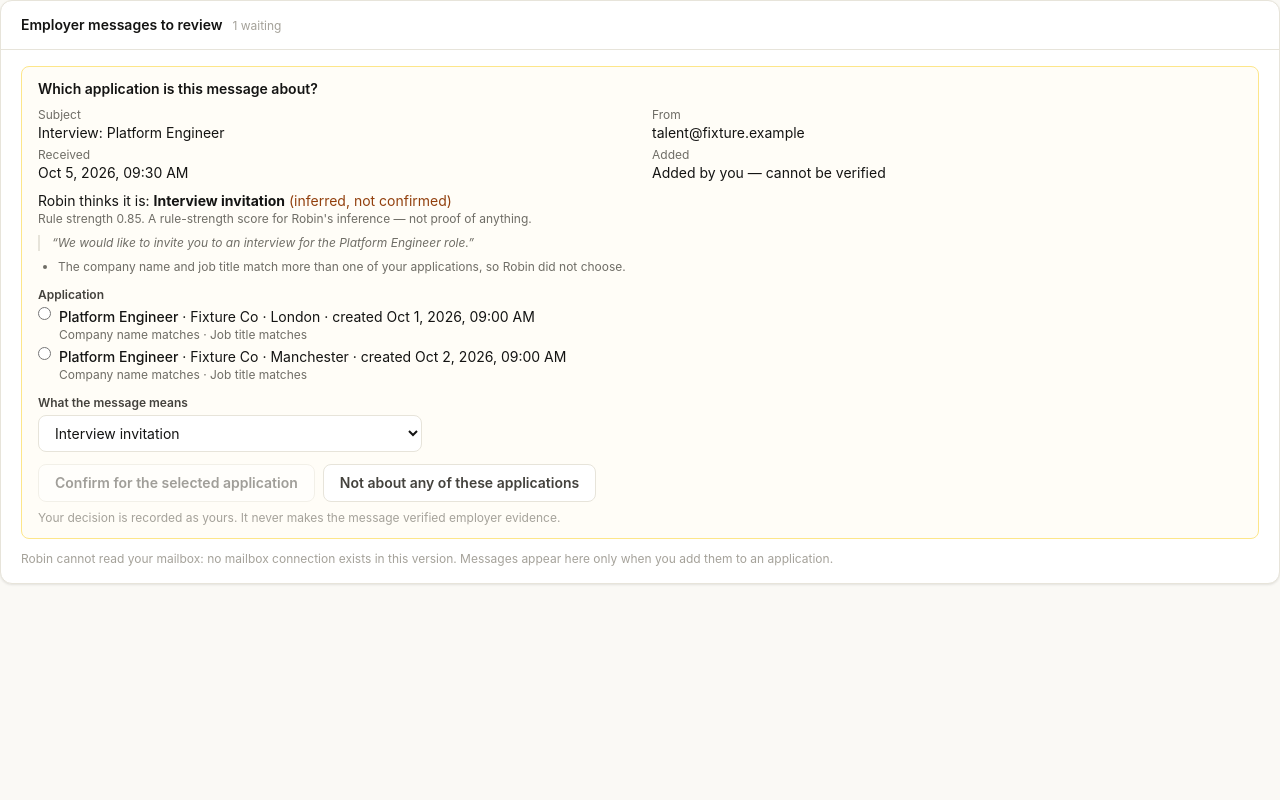
Test: TrackReviewQueue › reports a stale decision and reloads the queue instead of guessing
Click the button "Not about any of these applications".
click(460, 483)  # box [323,464,596,502]
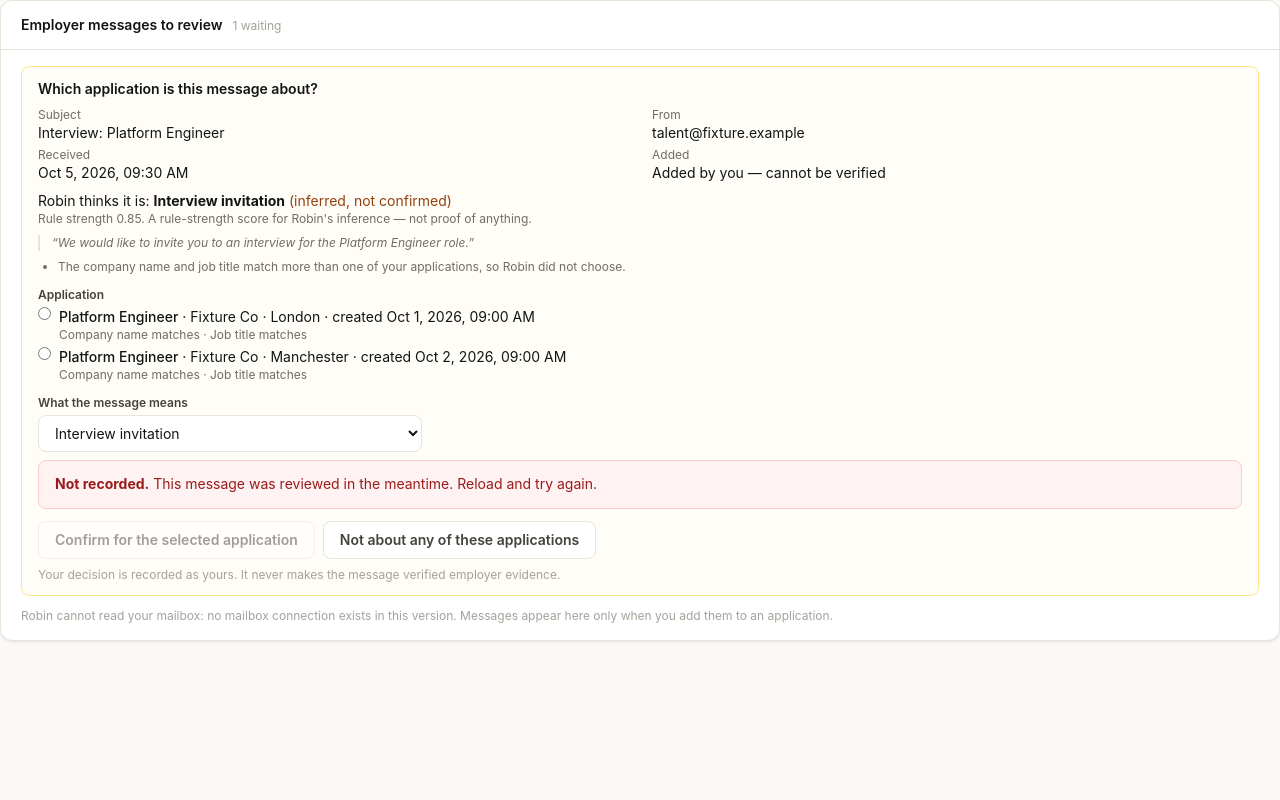
Result: the text "Not recorded. This message was reviewed in the meantime. Reload and try again." is shown at [38,460,1242,509]
Result: the text "Not recorded." is shown at [55,475,149,492]
